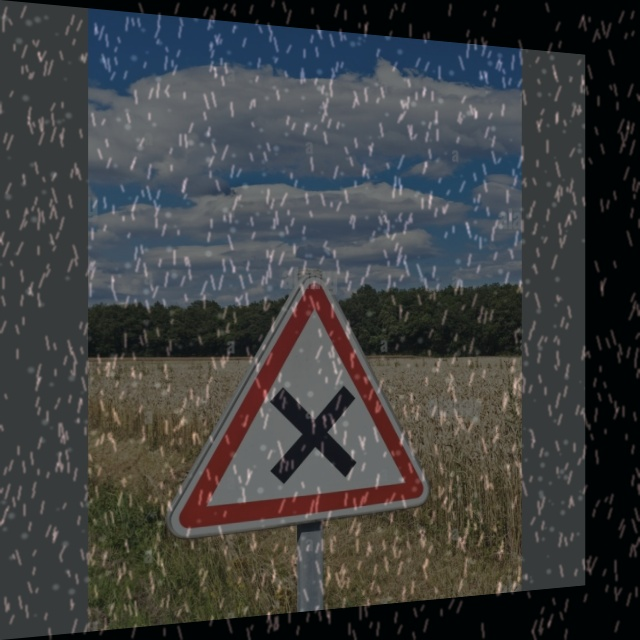Cross_Road: (181, 276, 429, 536)
